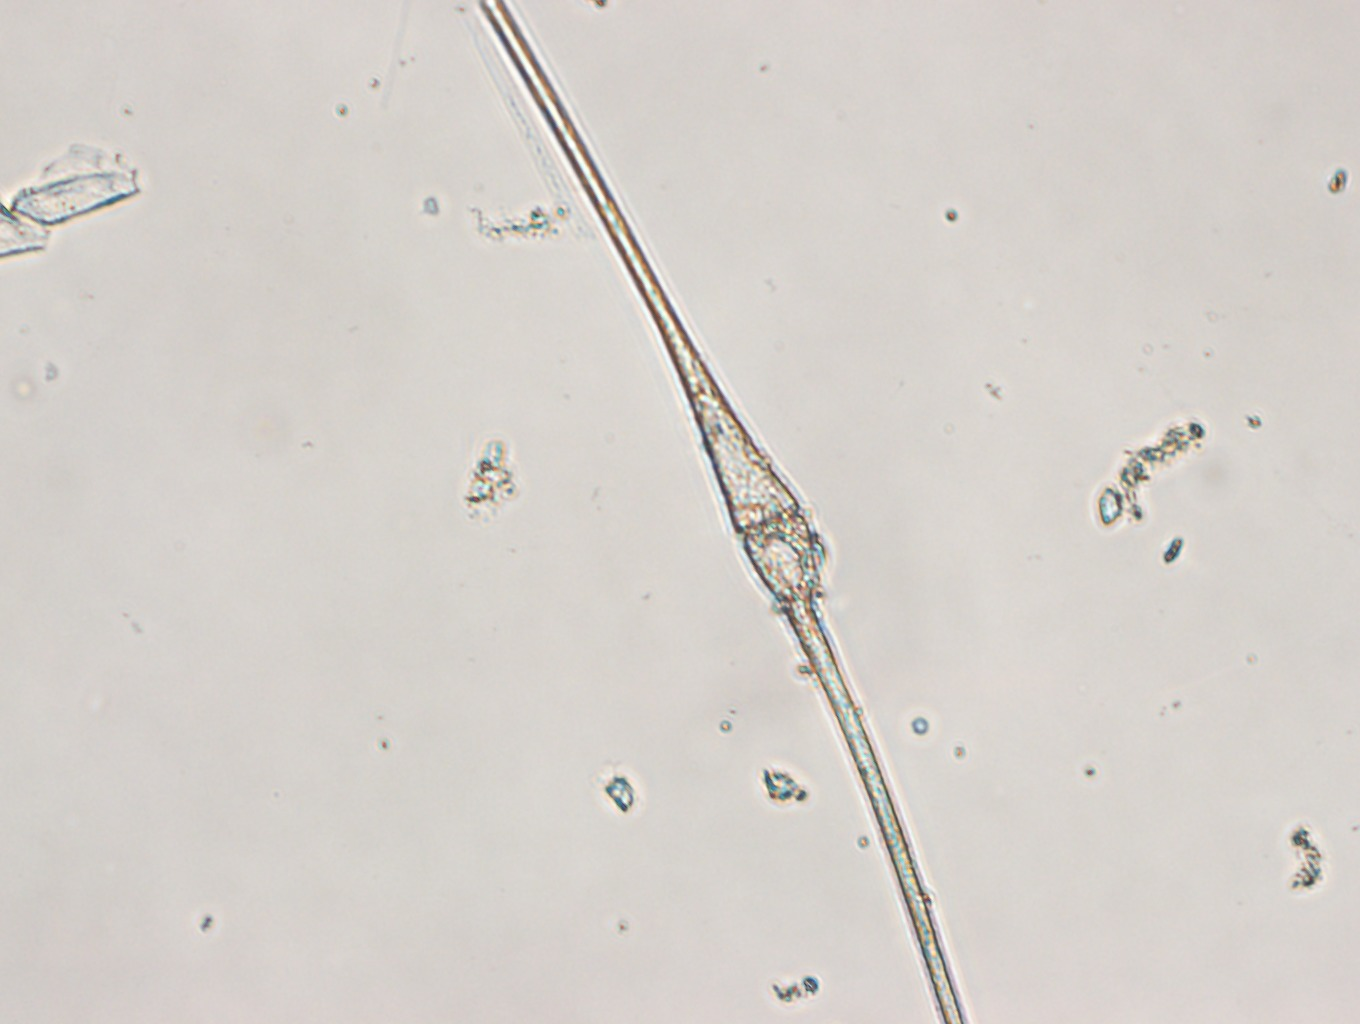ceratium fusus: (469, 1, 963, 1024)
